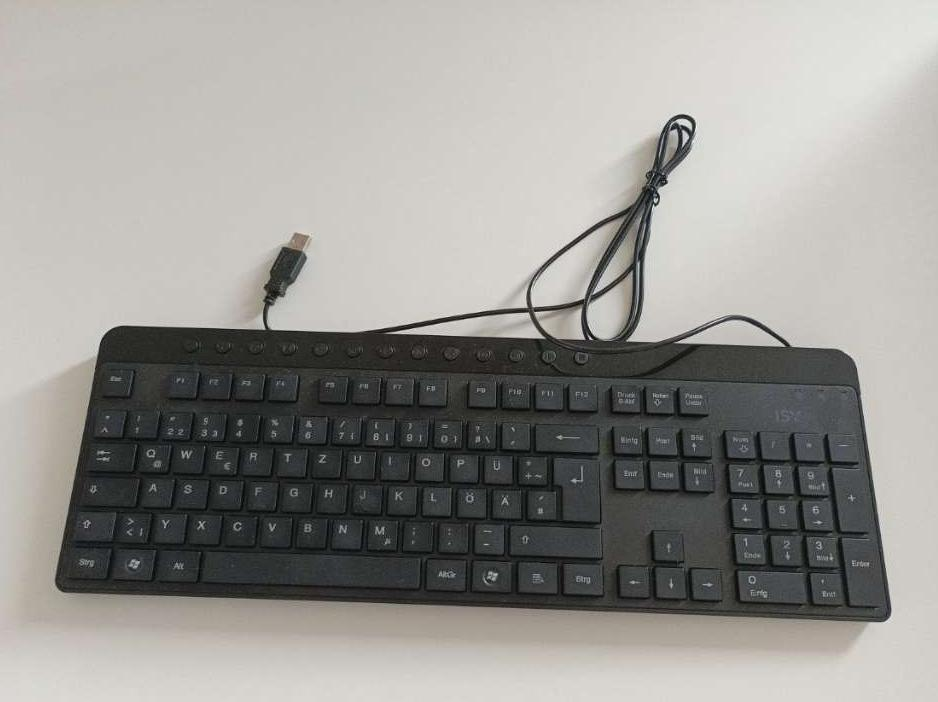0: (430, 415, 461, 446)
1: (124, 406, 157, 437)
2: (158, 408, 190, 437)
3: (191, 408, 222, 438)
4: (226, 410, 257, 440)
5: (261, 411, 291, 441)
6: (295, 412, 326, 442)
7: (329, 412, 358, 442)
8: (362, 414, 393, 444)
9: (397, 415, 426, 445)
a: (138, 474, 171, 506)
accent: (499, 418, 528, 448)
ae: (488, 485, 521, 517)
alt-left: (153, 546, 198, 581)
altgr-right: (422, 555, 465, 590)
b: (293, 514, 325, 546)
c: (220, 511, 254, 544)
caret: (90, 406, 123, 435)
comma: (400, 518, 430, 549)
d: (208, 476, 240, 507)
del: (533, 421, 596, 451)
e: (204, 441, 237, 473)
enter: (551, 455, 598, 520)
f: (244, 478, 275, 508)
g: (278, 479, 310, 510)
h: (314, 480, 345, 511)
hash: (524, 486, 555, 518)
i: (377, 448, 408, 478)
j: (349, 481, 380, 512)
k: (384, 482, 415, 513)
keyboard: (43, 326, 898, 625)
l: (419, 484, 449, 514)
less: (112, 508, 149, 541)
m: (364, 515, 396, 549)
minus: (471, 520, 502, 553)
n: (327, 515, 360, 548)
o: (412, 449, 442, 480)
oe: (454, 484, 485, 516)
p: (446, 450, 477, 481)
plus: (515, 452, 546, 483)
point: (436, 519, 466, 551)
q: (134, 440, 167, 471)
r: (238, 443, 270, 474)
s: (172, 476, 206, 507)
shift-left: (69, 509, 113, 540)
shift-lock: (77, 474, 136, 505)
shift-right: (507, 522, 599, 555)
space: (200, 549, 420, 587)
ss: (464, 416, 494, 447)
strg-left: (56, 545, 109, 579)
strg-right: (559, 560, 603, 594)
t: (273, 443, 304, 474)
tab: (84, 440, 133, 470)
u: (343, 447, 374, 478)
ue: (481, 451, 511, 482)
v: (258, 511, 289, 545)
w: (169, 439, 202, 471)
x: (184, 510, 219, 543)
y: (150, 510, 184, 542)
z: (308, 445, 339, 476)
